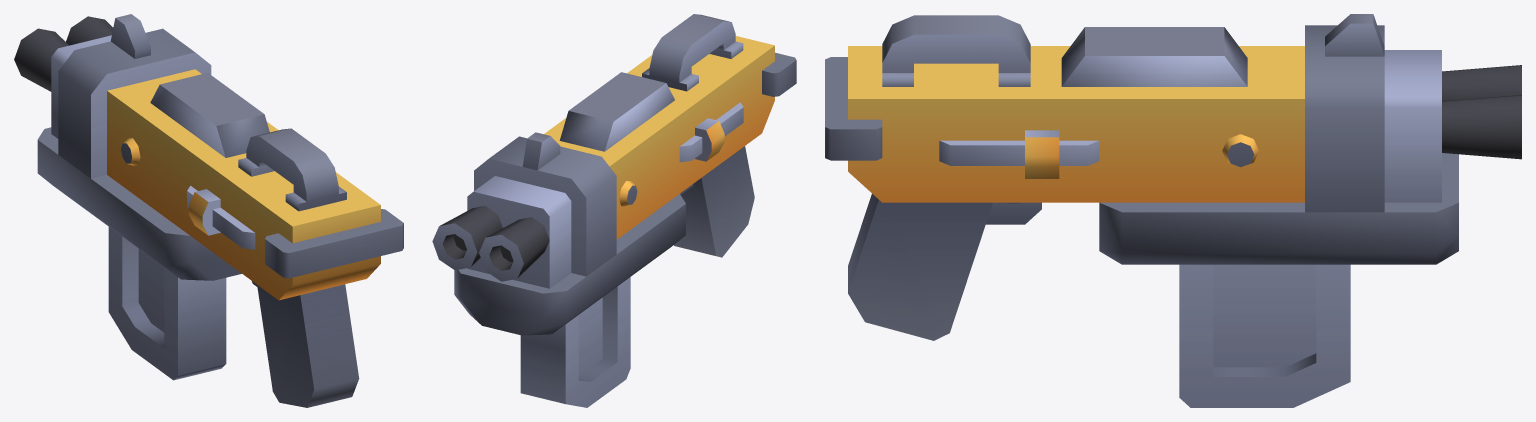
File: gun-pike.glb
3 renders of one model, left to right at view 1: azimuth 30°, elevation 25°; view 2: azimuth 150°, elevation 25°; view 3: azimuth 270°, elevation 25°, orthographic. The views are drawn at different scales.
Visible parts, largest first — view 1: blaster-j, magazine; view 2: blaster-j, magazine; view 3: blaster-j, magazine.
Boxes of the visible parts, box(x1,y1,x2,y2) form: blaster-j: box(14, 14, 403, 407); magazine: box(108, 227, 226, 380); blaster-j: box(432, 14, 796, 335); magazine: box(520, 277, 630, 407); blaster-j: box(825, 14, 1521, 340); magazine: box(1179, 264, 1350, 407).
Size of the model in its own units: 0.155 by 0.3619 by 0.61.
Materials: 1 (1 with a texture image).
